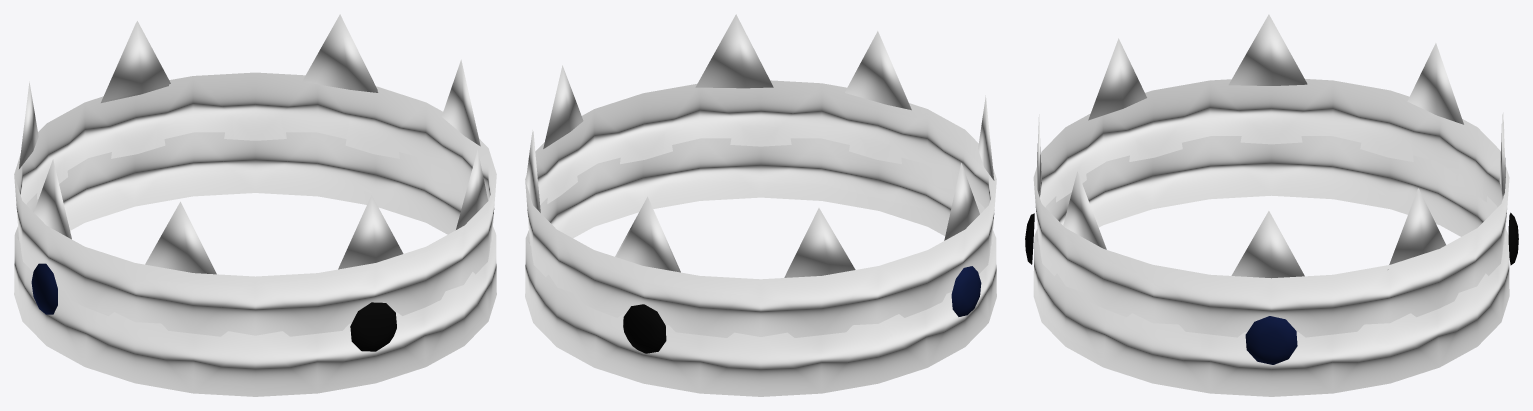
File: crown.dae
The picture shows the model from 3 angles, left to right: view 1: azimuth 30°, elevation 25°; view 2: azimuth 150°, elevation 25°; view 3: azimuth 270°, elevation 25°; orthographic projection. The views are drawn at different scales.
Parts seen in each view (by area): view 1: Torus; view 2: Torus; view 3: Torus.
Boxes of the visible parts, <box> form: Torus: <box>14,14,496,396</box>; Torus: <box>525,14,996,396</box>; Torus: <box>1025,14,1518,396</box>.
Size of the model in its own units: 0.2427 by 0.2435 by 0.1015.
1 material, 1 textured.
